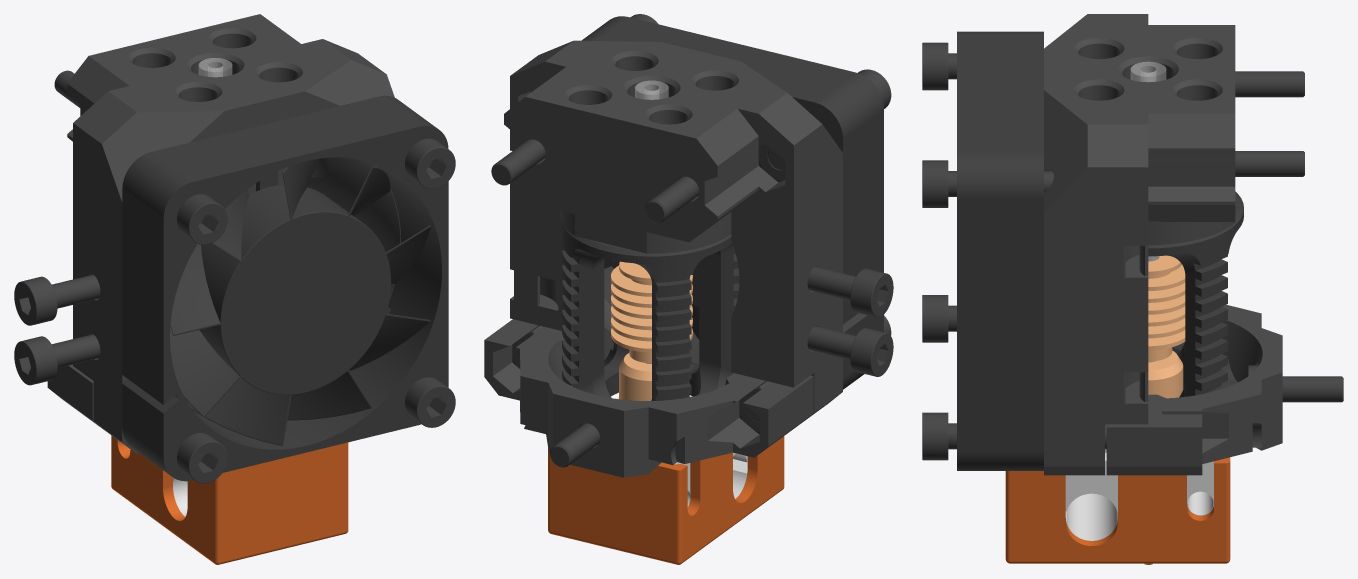
The model's file is Dragon.dae.
The picture shows the model from 3 angles, left to right: view 1: azimuth 30°, elevation 25°; view 2: azimuth 150°, elevation 25°; view 3: azimuth 270°, elevation 25°; orthographic projection. The views are drawn at different scales.
Parts seen in each view (by area): view 1: 4010 FAN, dragon_face, SOCK, DIN 912 M3 10 mm (×2), DIN 912 M3 25 mm (×2), DIN 912 M3 20 mm (×2), v6_support, PTFE 18.1mm; view 2: dragon_face, Dragon hotend (×4), v6_support, 4010 FAN, SOCK, DIN 912 M3 10 mm (×2), DIN 912 M3 25 mm (×2), DIN 912 M3 8 mm, DIN 912 M3 20 mm, PTFE 18.1mm; view 3: dragon_face, 4010 FAN, Dragon hotend (×4), SOCK, v6_support, DIN 912 M3 25 mm (×4), DIN 912 M3 20 mm (×2), DIN 912 M3 8 mm, PTFE 18.1mm.
Part boxes in pixels (bbox=[...]): 4010 FAN: bbox=[122, 95, 448, 481]; dragon_face: bbox=[67, 14, 400, 453]; SOCK: bbox=[111, 435, 348, 564]; DIN 912 M3 10 mm (×2): bbox=[14, 274, 100, 385]; DIN 912 M3 25 mm (×2): bbox=[177, 377, 455, 483]; DIN 912 M3 20 mm (×2): bbox=[177, 138, 455, 244]; v6_support: bbox=[47, 364, 104, 430]; PTFE 18.1mm: bbox=[198, 58, 232, 77]; dragon_face: bbox=[504, 40, 842, 423]; Dragon hotend (×4): bbox=[561, 222, 747, 507]; v6_support: bbox=[484, 319, 813, 477]; 4010 FAN: bbox=[582, 16, 883, 389]; SOCK: bbox=[548, 436, 784, 564]; DIN 912 M3 10 mm (×2): bbox=[807, 266, 893, 376]; DIN 912 M3 25 mm (×2): bbox=[491, 139, 699, 222]; DIN 912 M3 8 mm: bbox=[550, 423, 600, 467]; DIN 912 M3 20 mm: bbox=[768, 69, 891, 169]; PTFE 18.1mm: bbox=[635, 80, 668, 99]; dragon_face: bbox=[1044, 14, 1235, 475]; 4010 FAN: bbox=[957, 31, 1043, 470]; Dragon hotend (×4): bbox=[1065, 191, 1243, 540]; SOCK: bbox=[1005, 457, 1230, 563]; v6_support: bbox=[1106, 304, 1282, 475]; DIN 912 M3 25 mm (×4): bbox=[922, 71, 1304, 460]; DIN 912 M3 20 mm (×2): bbox=[922, 42, 1053, 207]; DIN 912 M3 8 mm: bbox=[1248, 365, 1343, 402]; PTFE 18.1mm: bbox=[1130, 61, 1166, 82].
Bounding box in the file's own units: 0.0496 × 0.0485 × 0.0626.
